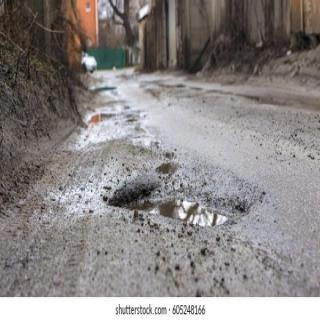pothole: (108, 187, 246, 226), (156, 163, 181, 182)
